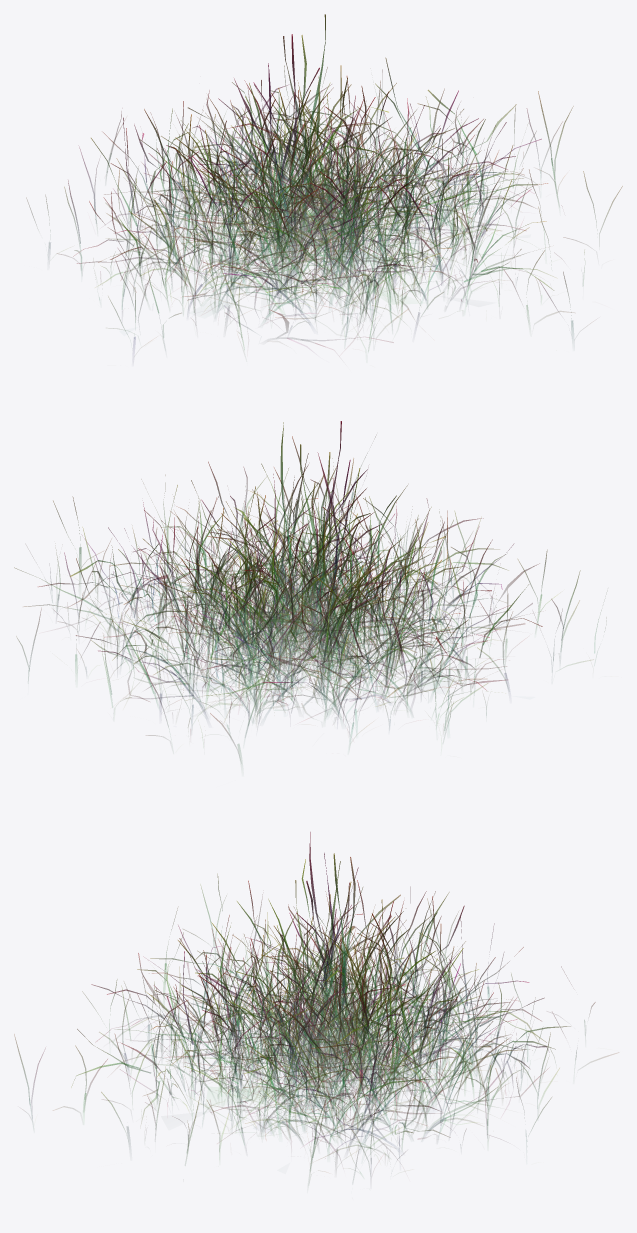
File: wiljearqx_tier_3.gltf
3 renders of one model, top to bottom at view 1: azimuth 30°, elevation 25°; view 2: azimuth 150°, elevation 25°; view 3: azimuth 270°, elevation 25°, orthographic. The views are drawn at different scales.
Visible parts, largest first — view 1: SM_wiljearqx_VarF, SM_wiljearqx_VarG, SM_wiljearqx_VarC, SM_wiljearqx_VarD, SM_wiljearqx_VarE, SM_wiljearqx_VarA, SM_wiljearqx_VarB, SM_wiljearqx_VarH; view 2: SM_wiljearqx_VarF, SM_wiljearqx_VarG, SM_wiljearqx_VarC, SM_wiljearqx_VarD, SM_wiljearqx_VarA, SM_wiljearqx_VarE, SM_wiljearqx_VarB, SM_wiljearqx_VarH; view 3: SM_wiljearqx_VarF, SM_wiljearqx_VarG, SM_wiljearqx_VarC, SM_wiljearqx_VarD, SM_wiljearqx_VarE, SM_wiljearqx_VarA, SM_wiljearqx_VarB, SM_wiljearqx_VarH.
Boxes of the visible parts, x1,y1,x2,y2 form: SM_wiljearqx_VarF: [91, 57, 547, 318]; SM_wiljearqx_VarG: [73, 82, 553, 346]; SM_wiljearqx_VarC: [26, 65, 622, 344]; SM_wiljearqx_VarD: [103, 88, 473, 321]; SM_wiljearqx_VarE: [100, 82, 498, 312]; SM_wiljearqx_VarA: [226, 14, 388, 257]; SM_wiljearqx_VarB: [187, 63, 425, 257]; SM_wiljearqx_VarH: [99, 149, 539, 326]; SM_wiljearqx_VarF: [38, 463, 506, 717]; SM_wiljearqx_VarG: [14, 458, 542, 721]; SM_wiljearqx_VarC: [16, 436, 598, 763]; SM_wiljearqx_VarD: [140, 512, 467, 723]; SM_wiljearqx_VarA: [231, 421, 358, 660]; SM_wiljearqx_VarE: [91, 501, 470, 715]; SM_wiljearqx_VarB: [184, 452, 409, 696]; SM_wiljearqx_VarH: [54, 499, 486, 728]; SM_wiljearqx_VarF: [91, 891, 517, 1148]; SM_wiljearqx_VarG: [71, 859, 570, 1156]; SM_wiljearqx_VarC: [14, 874, 616, 1179]; SM_wiljearqx_VarD: [137, 905, 516, 1136]; SM_wiljearqx_VarE: [166, 920, 519, 1154]; SM_wiljearqx_VarA: [266, 832, 406, 1078]; SM_wiljearqx_VarB: [255, 853, 465, 1110]; SM_wiljearqx_VarH: [148, 965, 551, 1158].
Size of what is drawn, in the model's own units: 1.15 by 0.5879 by 1.18.
1 material, 1 textured.
